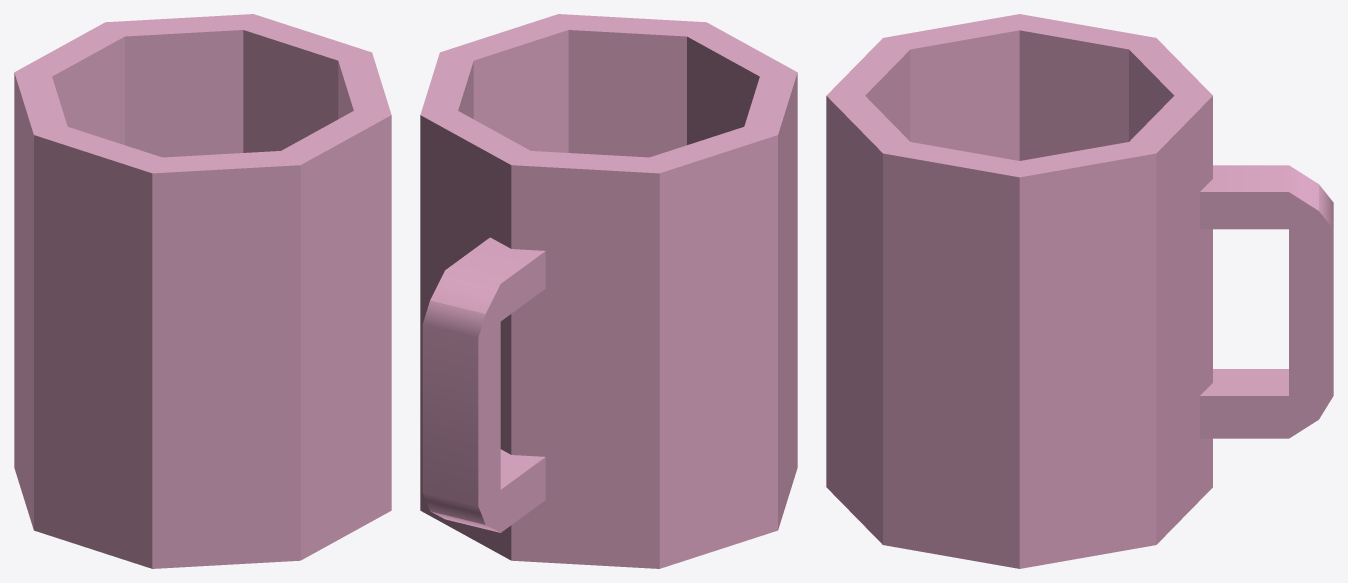
The model's file is Mug.fbx.
3 views of the same model, side by side, from view 1: azimuth 30°, elevation 25°; view 2: azimuth 150°, elevation 25°; view 3: azimuth 270°, elevation 25° (orthographic).
Visible parts, largest first — view 1: pCylinder3; view 2: pCylinder3; view 3: pCylinder3.
Boxes of the visible parts, x1,y1,x2,y2 form: pCylinder3: [14, 14, 391, 568]; pCylinder3: [420, 14, 797, 568]; pCylinder3: [826, 14, 1333, 568].
Size of the model in its own units: 1.2 by 1.35 by 1.58.
